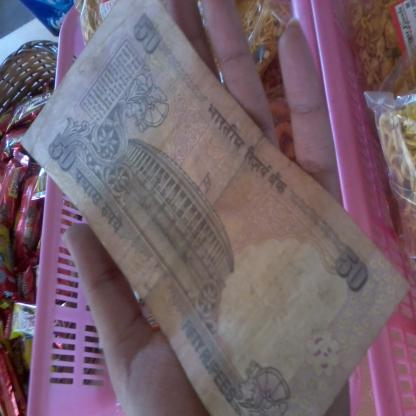Old50Back: (20, 0, 411, 416)
